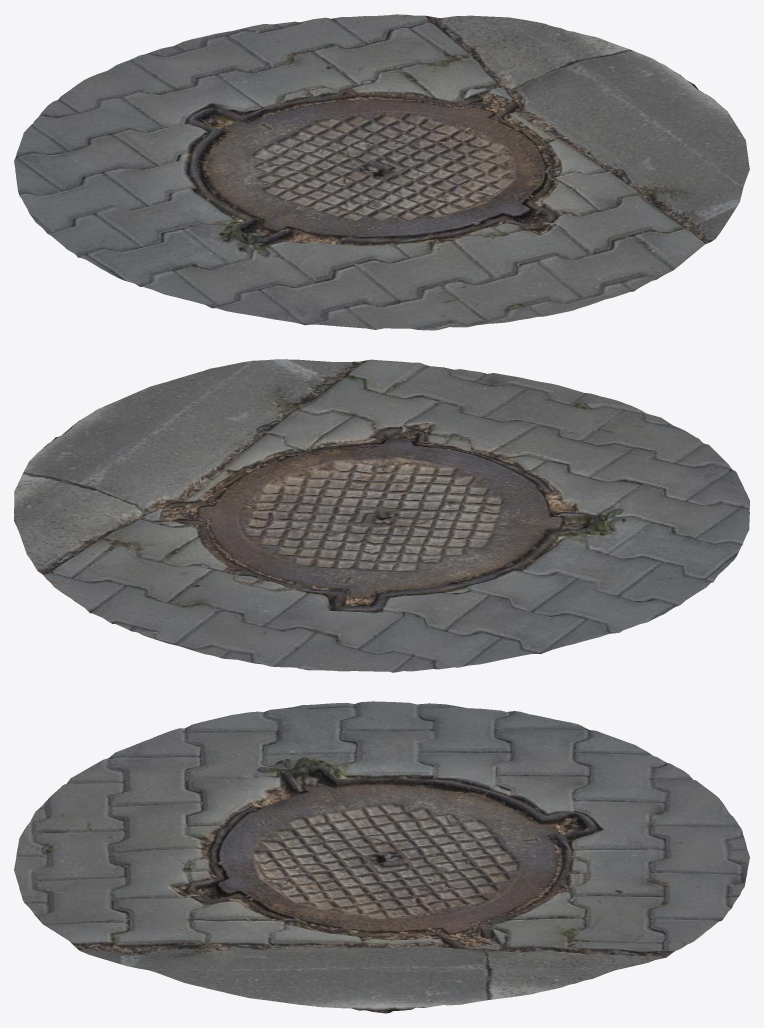
The model's file is photoscan_manhole_cover_2.glb.
3 views of the same model, one above another, from view 1: azimuth 30°, elevation 25°; view 2: azimuth 150°, elevation 25°; view 3: azimuth 270°, elevation 25° (orthographic).
Visible parts, largest first — view 1: photoscan_manhole_cover_2.001; view 2: photoscan_manhole_cover_2.001; view 3: photoscan_manhole_cover_2.001.
Part boxes in pixels (bbox=[...]): photoscan_manhole_cover_2.001: bbox=[14, 14, 749, 330]; photoscan_manhole_cover_2.001: bbox=[14, 359, 749, 672]; photoscan_manhole_cover_2.001: bbox=[14, 701, 749, 1013].
Size of the model in its own units: 1.68 by 0.0517 by 1.67.
Materials: 1 (1 with a texture image).
